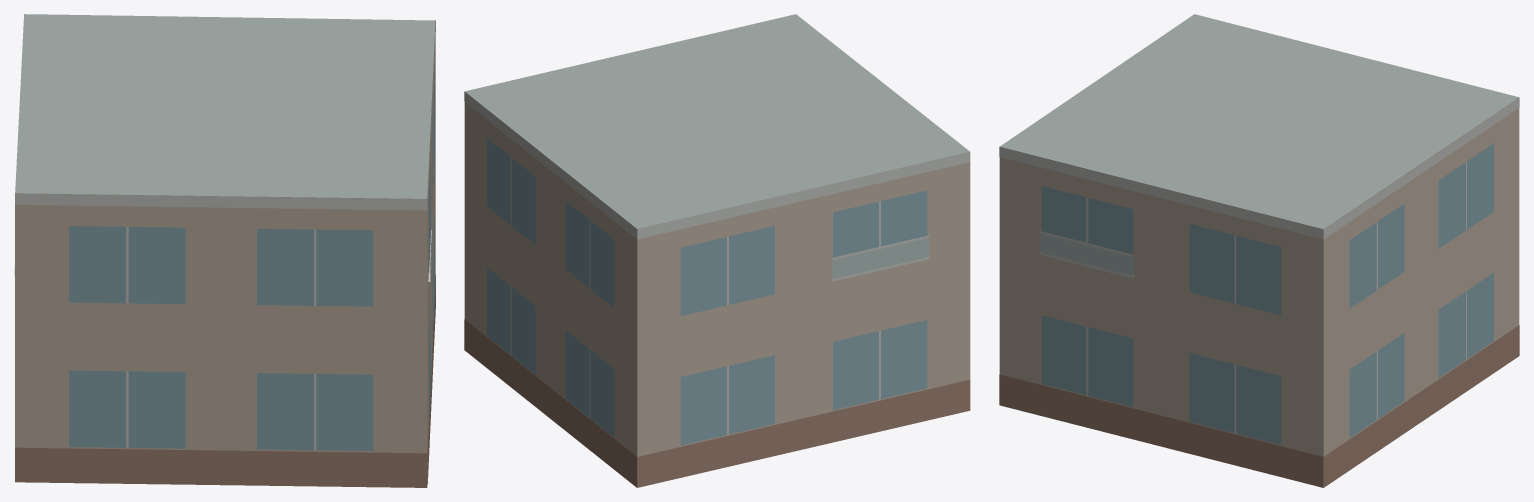
Rendered from survey-upis-32795388.glb.
The picture shows the model from 3 angles, left to right: view 1: azimuth 30°, elevation 25°; view 2: azimuth 150°, elevation 25°; view 3: azimuth 270°, elevation 25°; orthographic projection. The views are drawn at different scales.
Parts seen in each view (by area): view 1: survey-upis-32795388.tmp; view 2: survey-upis-32795388.tmp; view 3: survey-upis-32795388.tmp.
Boxes of the visible parts, x1,y1,x2,y2 form: survey-upis-32795388.tmp: (14, 14, 435, 487); survey-upis-32795388.tmp: (464, 14, 970, 487); survey-upis-32795388.tmp: (999, 14, 1519, 487).
Size of the model in its own units: 10.89 by 6.1 by 11.12.
